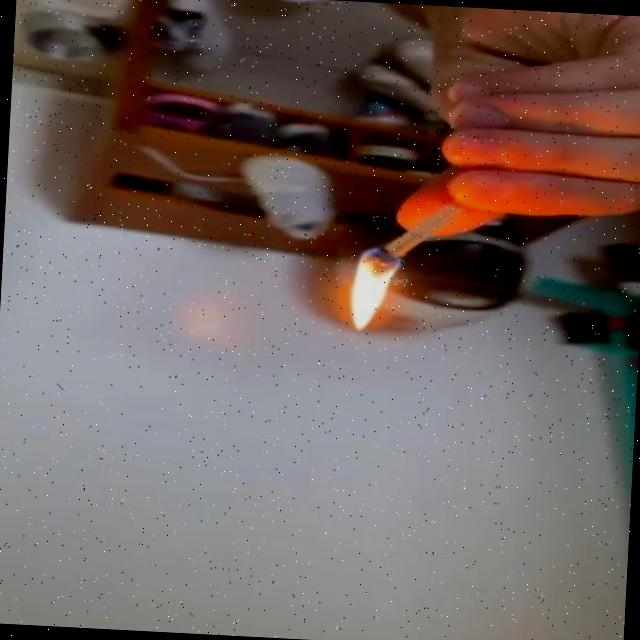fire: (339, 240, 405, 333)
